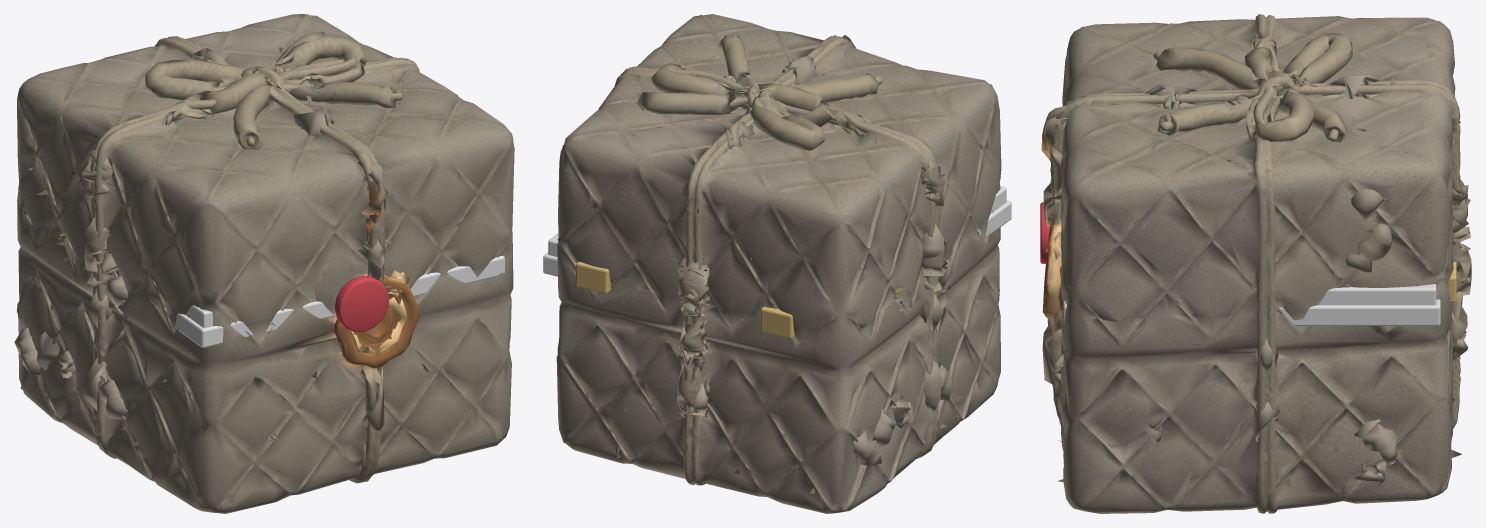
The picture shows the model from 3 angles, left to right: view 1: azimuth 30°, elevation 25°; view 2: azimuth 150°, elevation 25°; view 3: azimuth 270°, elevation 25°; orthographic projection. The views are drawn at different scales.
Parts seen in each view (by area): view 1: LidPivot, BoxBody, VelvetRim, SealPart; view 2: LidPivot, BoxBody, HingePlate_1.0, HingePlate_-1.0, VelvetRim; view 3: LidPivot, BoxBody, VelvetRim.
Boxes of the visible parts, x1,y1,x2,y2 form: LidPivot: (17,14,514,329); BoxBody: (14,208,513,513); VelvetRim: (165,256,504,347); SealPart: (334,276,389,331); LidPivot: (548,14,1006,335); BoxBody: (556,225,1000,513); HingePlate_1.0: (576,261,610,293); HingePlate_-1.0: (761,306,794,338); VelvetRim: (543,200,1011,276); LidPivot: (1041,14,1470,319); BoxBody: (1042,227,1471,513); VelvetRim: (1063,299,1440,325).
Size of the model in its own units: 0.3931 by 0.3861 by 0.3914.
